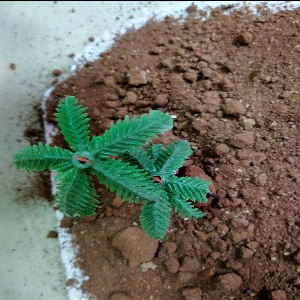plant: (24, 95, 203, 224)
